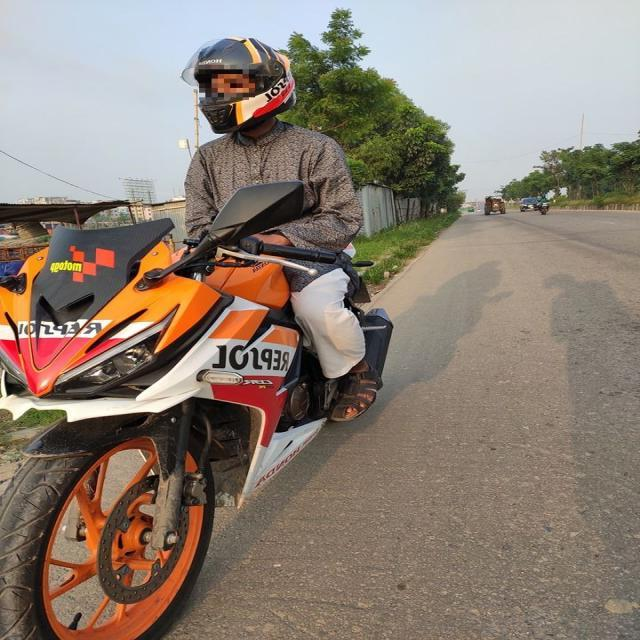Motorbike: (1, 156, 418, 639)
